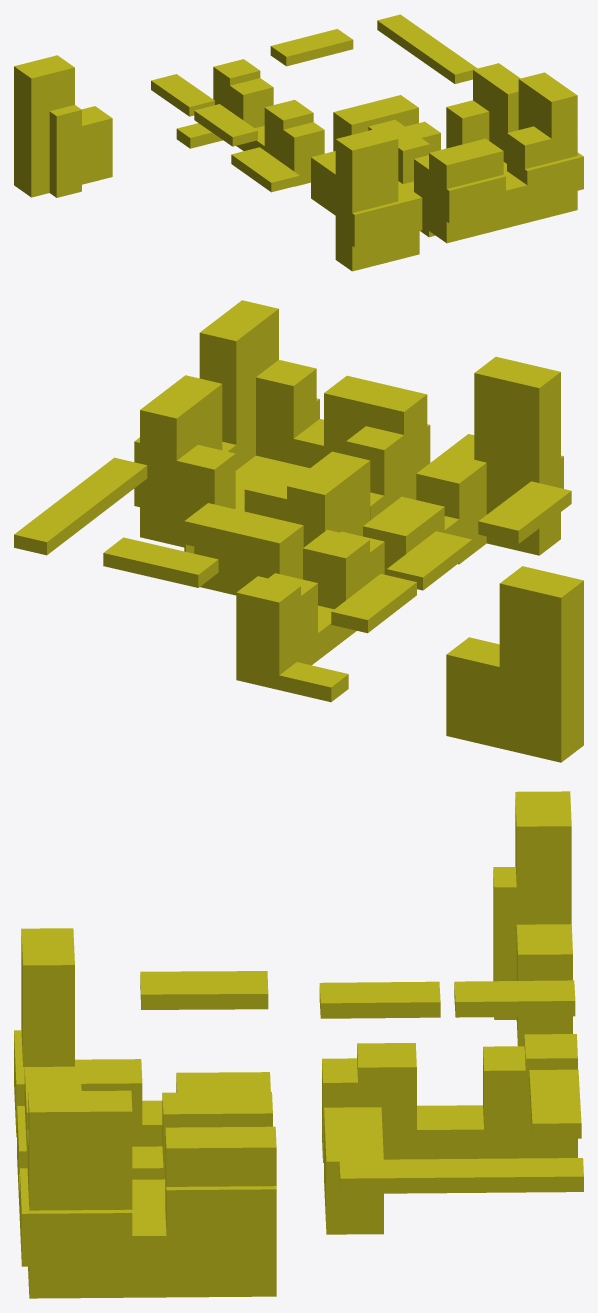
Rendered from PAM_Pinninpihat.fbx.
3 renders of one model, top to bottom at view 1: azimuth 30°, elevation 25°; view 2: azimuth 150°, elevation 25°; view 3: azimuth 270°, elevation 25°, orthographic. The views are drawn at different scales.
Visible parts, largest first — view 1: PAM_Pinninpihat_LOD0; view 2: PAM_Pinninpihat_LOD0; view 3: PAM_Pinninpihat_LOD0.
Part boxes in pixels (box(x1,y1,x2,y2)): PAM_Pinninpihat_LOD0: box(14, 14, 583, 271); PAM_Pinninpihat_LOD0: box(14, 300, 583, 762); PAM_Pinninpihat_LOD0: box(14, 791, 583, 1298).
Size of the model in its own units: 177 by 53.6 by 134.
